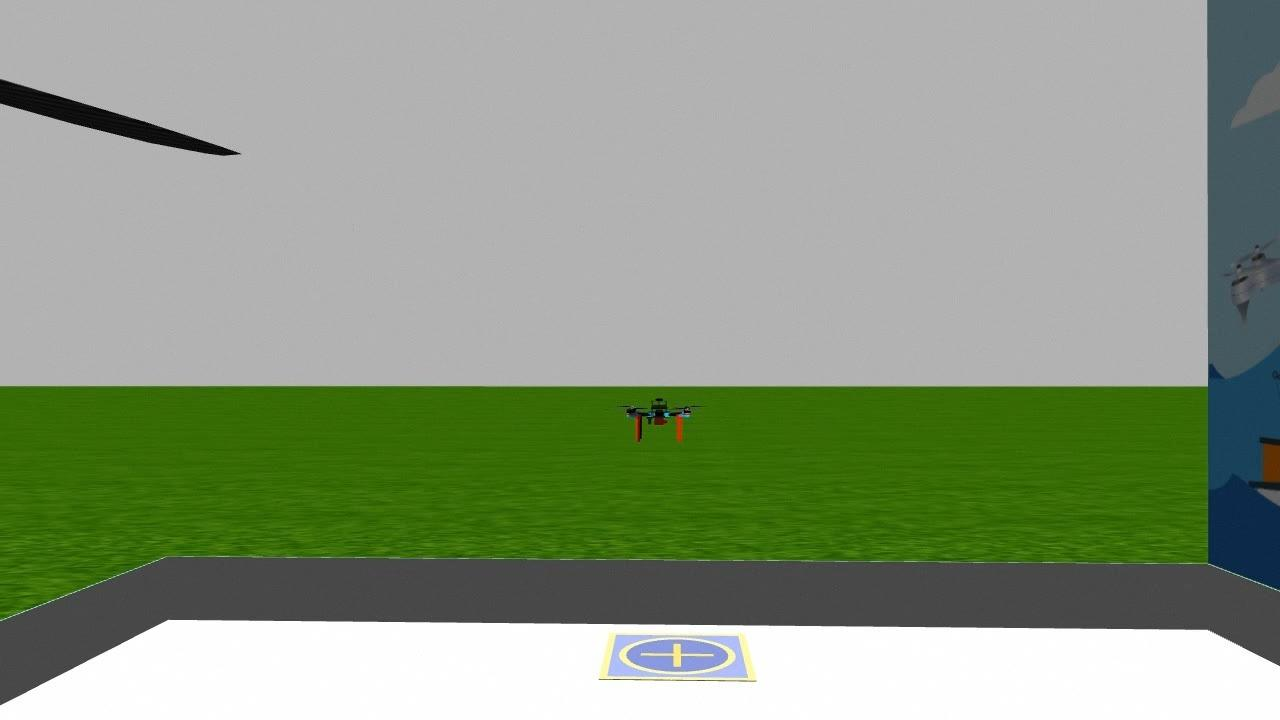UAV: (609, 381, 715, 450)
